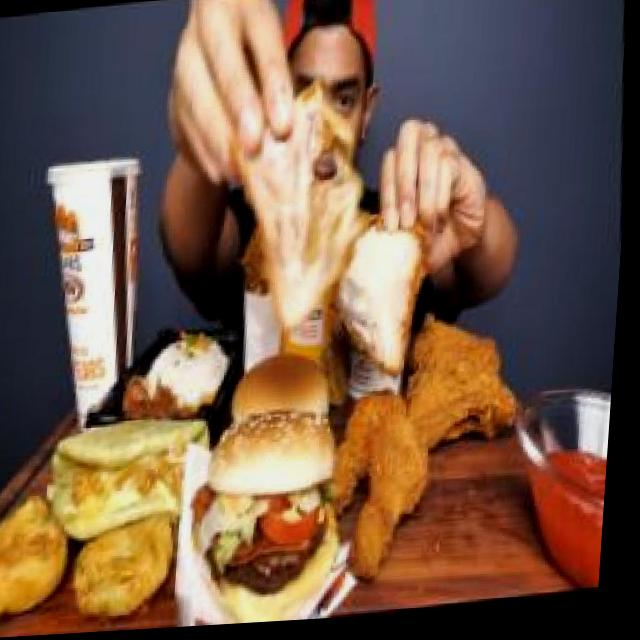AW cola: (27, 142, 170, 441)
black pepper rice bowl: (117, 326, 245, 436)
cheese burger: (231, 338, 351, 446)
fried chicken: (218, 66, 448, 414), (322, 297, 539, 577)
mango chicken pocket: (43, 401, 238, 553)
mozza burger: (184, 397, 369, 630)
perkedel: (72, 488, 194, 626), (0, 482, 97, 623)
